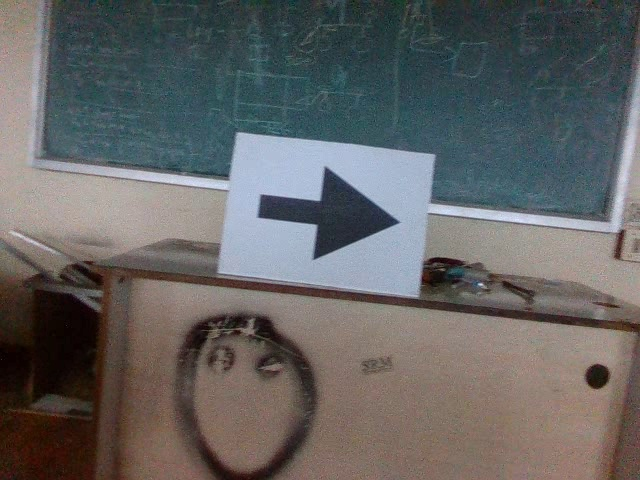Right: (245, 158, 404, 269)
